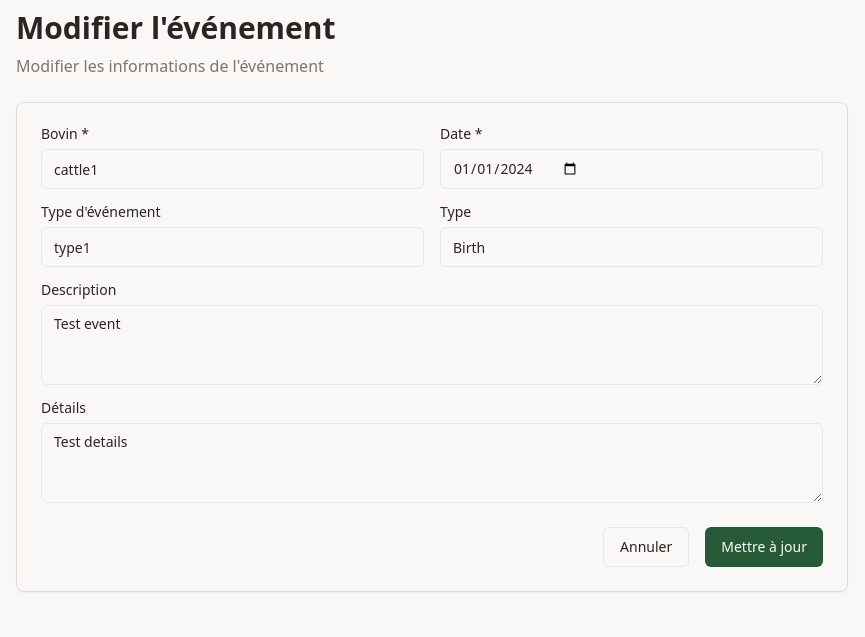
Test: EventsEditPage › shows validation errors when submitting empty form
Clear the required fields
Clear the field labelled "Bovin *" at (232, 169), box left=41, top=149, right=424, bottom=189
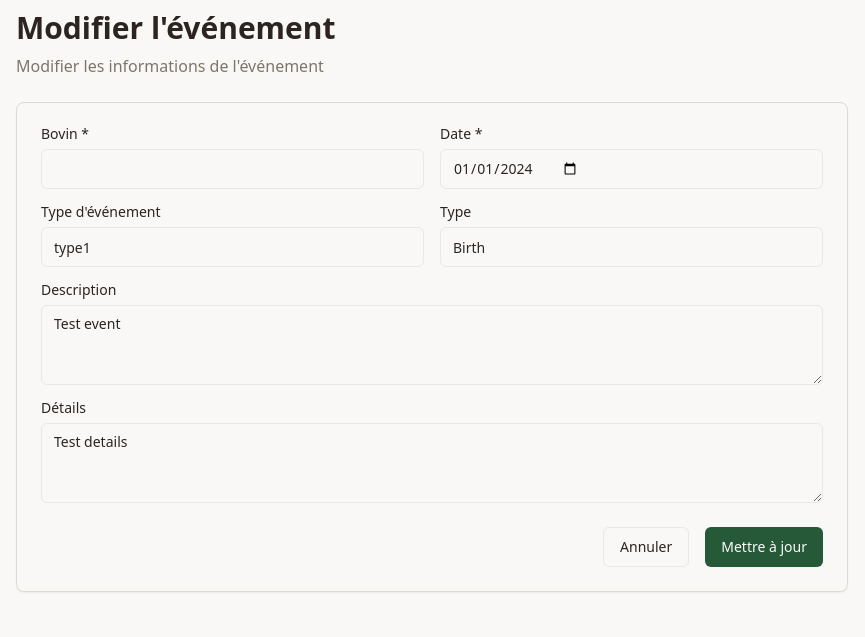
Clear the date field labelled "Date *" at (632, 169), box left=440, top=149, right=823, bottom=189
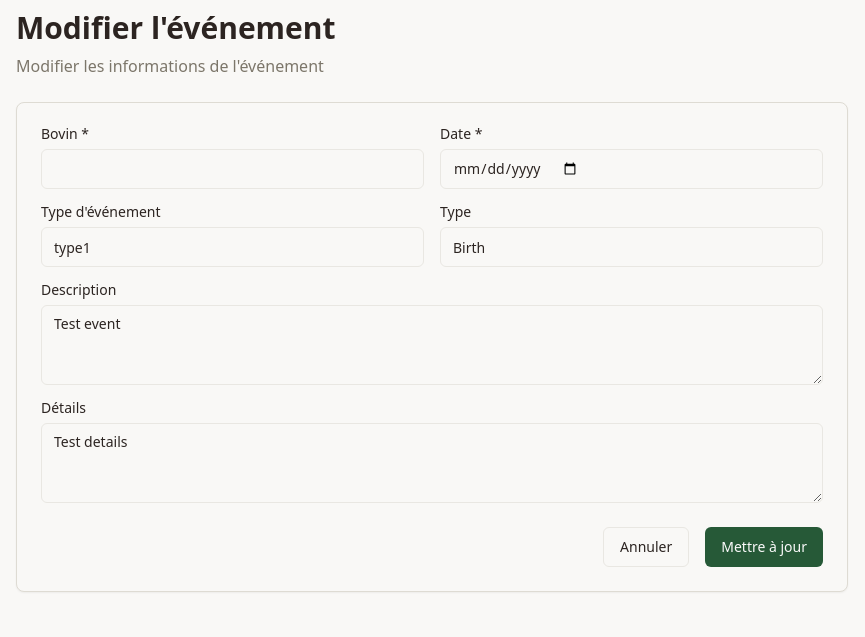
Click the button "Mettre à jour" at (764, 547), box left=705, top=527, right=823, bottom=567
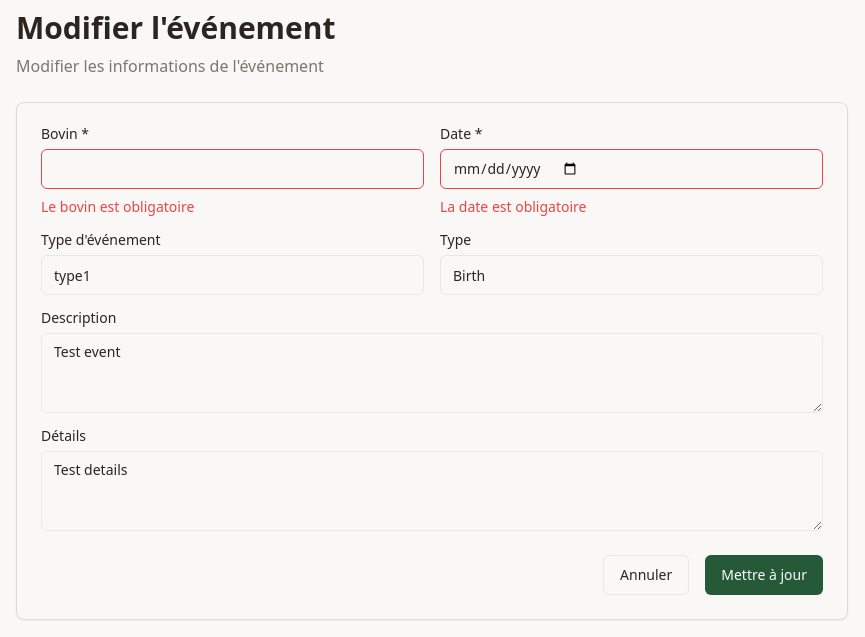
Now the text "Le bovin est obligatoire" is shown, box left=41, top=197, right=194, bottom=216
Now the text "La date est obligatoire" is shown, box left=440, top=197, right=586, bottom=216
